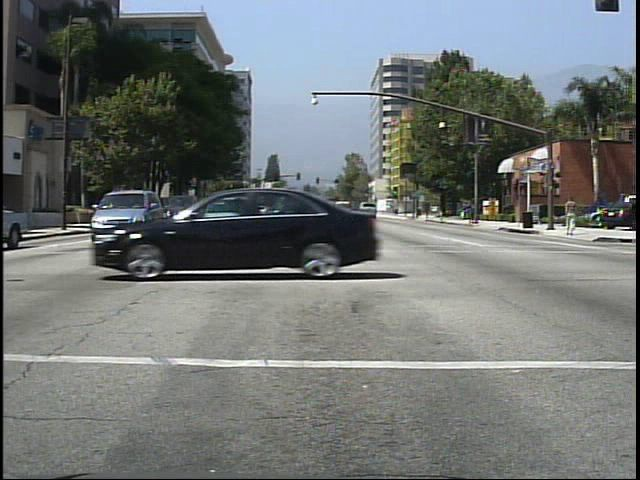person: (562, 195, 581, 239)
